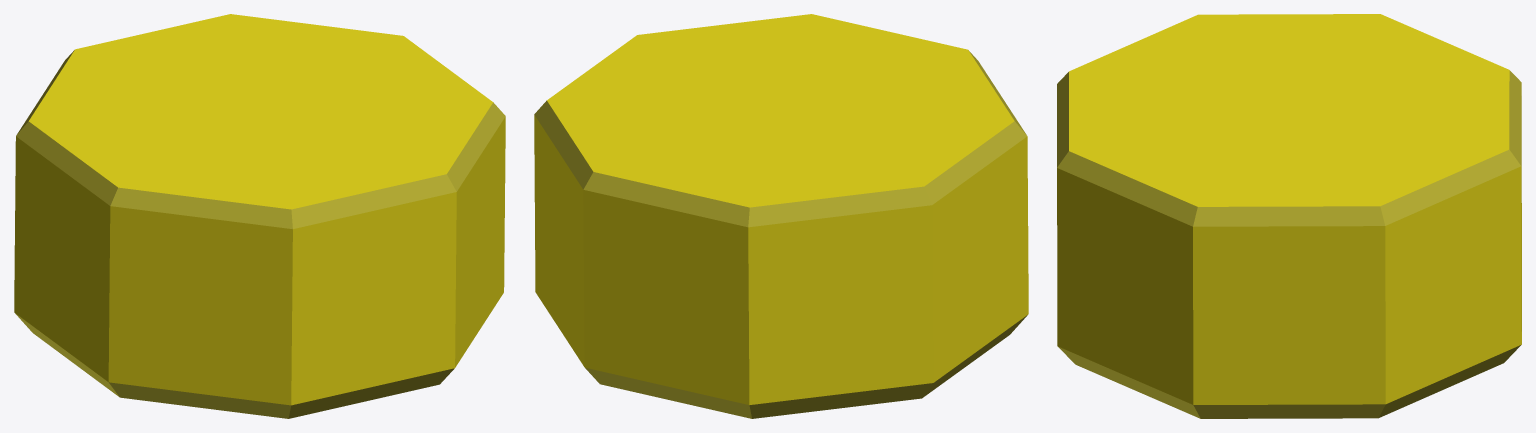
File: _tack.fbx
3 renders of one model, left to right at view 1: azimuth 30°, elevation 25°; view 2: azimuth 150°, elevation 25°; view 3: azimuth 270°, elevation 25°, orthographic.
Visible parts, largest first — view 1: Цилиндр.003; view 2: Цилиндр.003; view 3: Цилиндр.003.
Boxes of the visible parts, left/top/right/bottom form: Цилиндр.003: left=14, top=14, right=505, bottom=418; Цилиндр.003: left=534, top=14, right=1028, bottom=418; Цилиндр.003: left=1057, top=14, right=1521, bottom=418.
Bounding box in the file's own units: 70.02 × 36.83 × 69.84.
